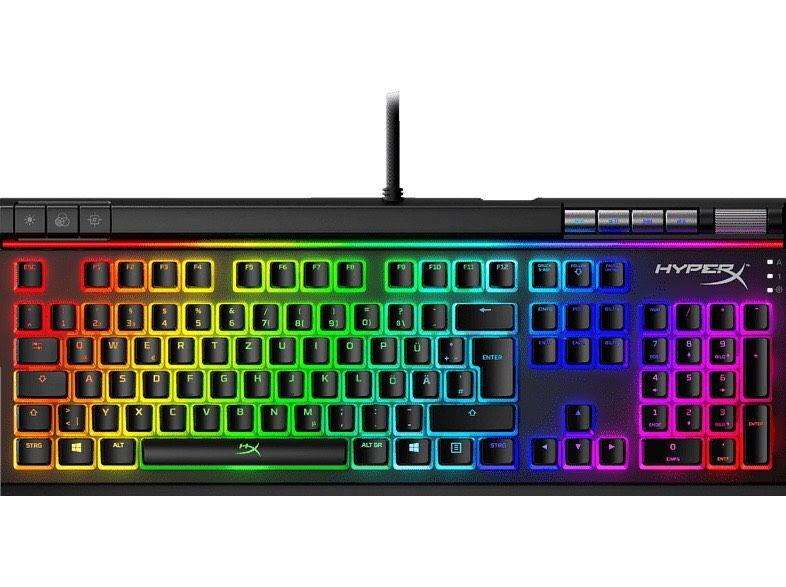0: (350, 300, 379, 329)
1: (50, 301, 74, 327)
2: (81, 300, 109, 328)
3: (115, 300, 143, 329)
4: (149, 300, 177, 328)
5: (182, 300, 211, 329)
6: (216, 300, 245, 329)
7: (250, 300, 278, 329)
8: (284, 300, 312, 330)
9: (317, 300, 345, 329)
a: (73, 367, 100, 396)
accent: (419, 301, 445, 328)
ae: (410, 368, 438, 397)
alt-left: (98, 434, 136, 463)
altgr-right: (351, 435, 388, 464)
b: (224, 401, 253, 429)
c: (157, 401, 186, 429)
caret: (17, 301, 40, 329)
comma: (325, 401, 353, 430)
d: (140, 367, 169, 396)
del: (453, 301, 513, 328)
e: (132, 333, 160, 362)
enter: (469, 333, 513, 396)
f: (175, 367, 202, 396)
g: (208, 367, 235, 396)
h: (242, 367, 269, 396)
hash: (444, 367, 472, 396)
i: (301, 333, 328, 362)
j: (276, 367, 303, 396)
k: (309, 367, 337, 396)
keyboard: (4, 239, 782, 486)
l: (343, 367, 370, 396)
less: (55, 400, 84, 430)
m: (292, 401, 320, 430)
minus: (392, 401, 421, 430)
n: (258, 401, 286, 429)
o: (334, 334, 362, 362)
oe: (376, 368, 404, 396)
p: (368, 334, 396, 362)
plus: (436, 334, 463, 363)
point: (360, 401, 387, 429)
q: (64, 333, 91, 362)
r: (166, 333, 194, 362)
s: (106, 367, 134, 396)
shift-left: (15, 401, 50, 428)
shift-lock: (14, 368, 67, 396)
shift-right: (427, 402, 513, 430)
space: (138, 434, 348, 465)
ss: (385, 301, 413, 329)
strg-left: (13, 434, 50, 463)
strg-right: (477, 435, 514, 463)
t: (200, 334, 227, 362)
tab: (17, 334, 57, 361)
u: (267, 333, 295, 362)
ue: (402, 334, 429, 363)
v: (191, 401, 219, 429)
w: (98, 333, 125, 362)
x: (124, 401, 152, 429)
y: (90, 401, 118, 429)
z: (233, 333, 261, 362)
